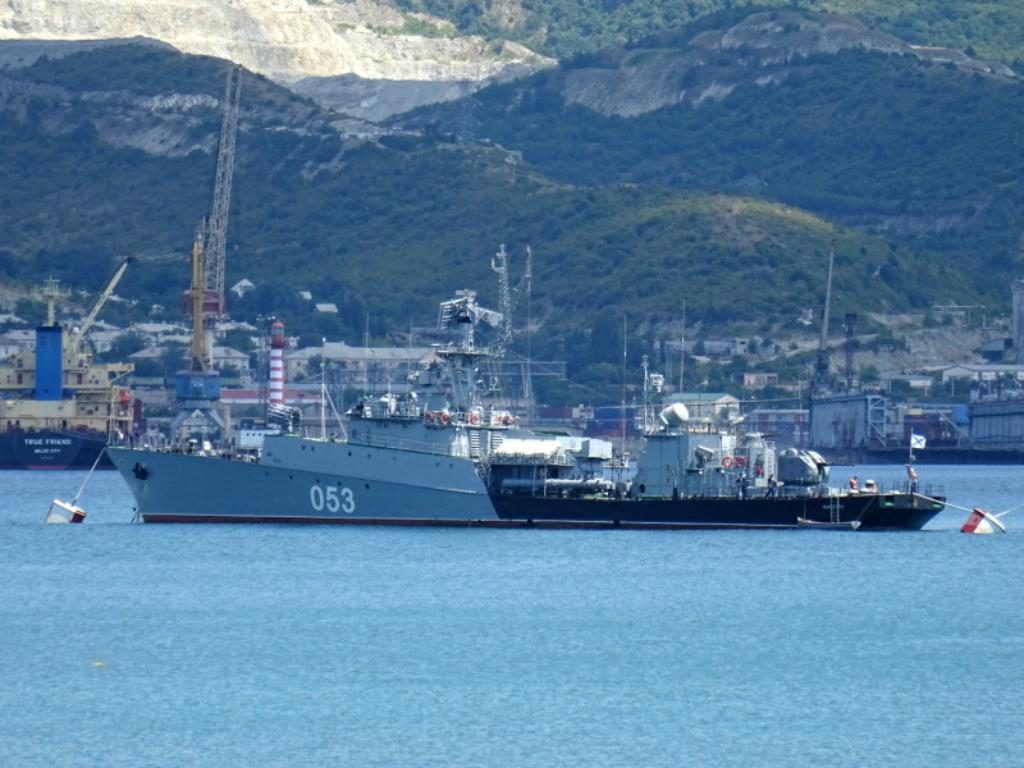Warship: (100, 290, 948, 530)
